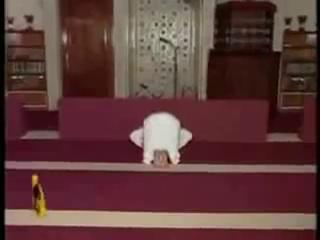sujud: (129, 109, 192, 169)
